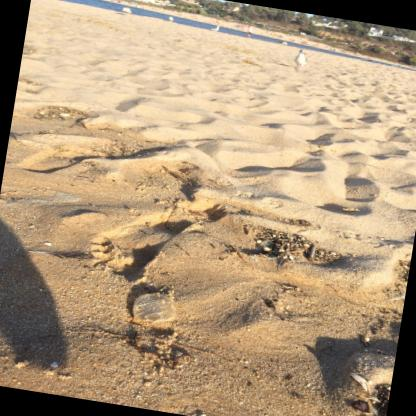Plastic: (132, 293, 175, 324), (254, 240, 274, 251)
